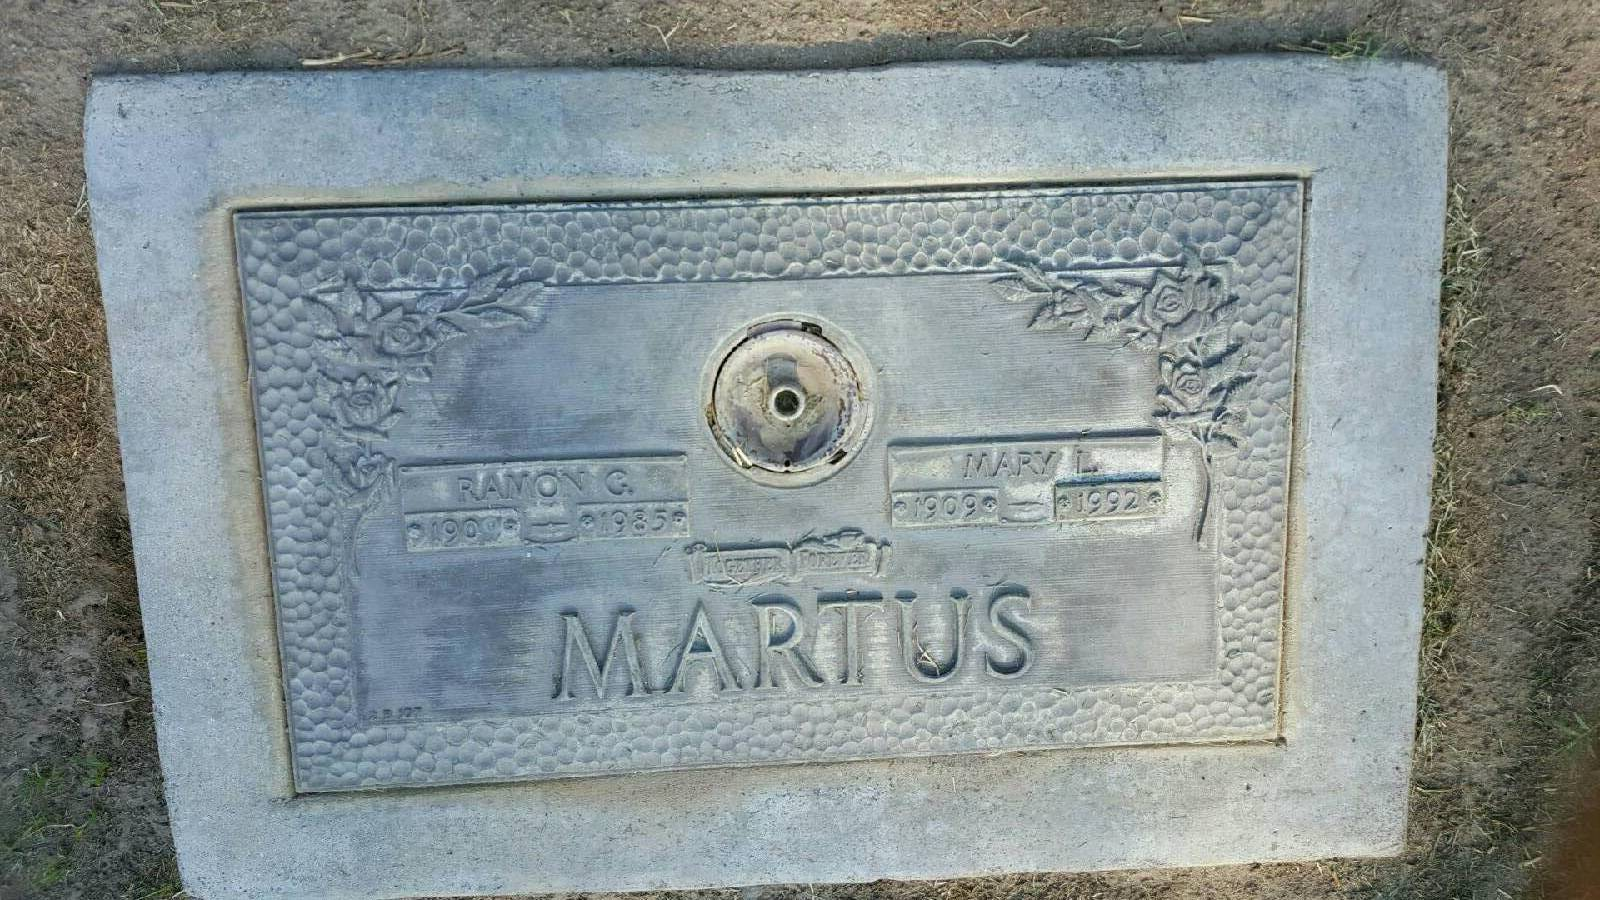flat: (81, 52, 1451, 900)
